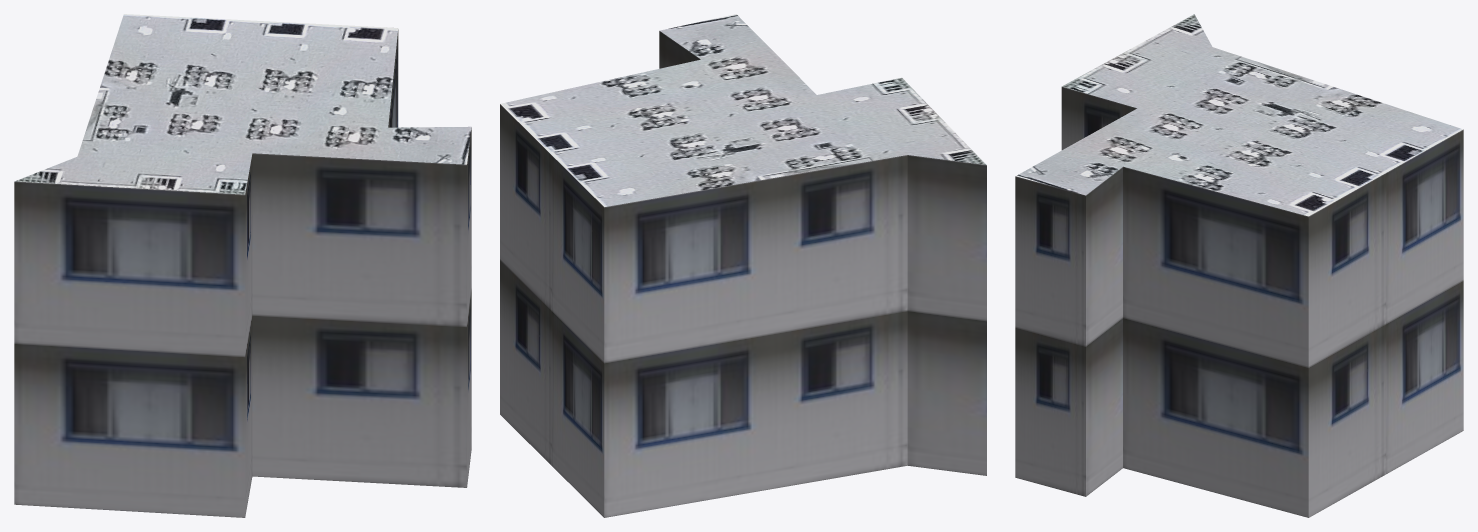
The model's file is ResTex__3737.fbx.
3 views of the same model, side by side, from view 1: azimuth 30°, elevation 25°; view 2: azimuth 150°, elevation 25°; view 3: azimuth 270°, elevation 25° (orthographic). The views are drawn at different scales.
Parts seen in each view (by area): view 1: CityEngineMaterial_9_m, CityEngineMaterial_4_m; view 2: CityEngineMaterial_9_m, CityEngineMaterial_4_m; view 3: CityEngineMaterial_9_m, CityEngineMaterial_4_m.
Part boxes in pixels (x1,y1,x2,y2): CityEngineMaterial_9_m: (14, 29, 471, 517); CityEngineMaterial_4_m: (14, 14, 471, 194); CityEngineMaterial_9_m: (500, 31, 986, 517); CityEngineMaterial_4_m: (500, 14, 986, 206); CityEngineMaterial_9_m: (1015, 87, 1463, 517); CityEngineMaterial_4_m: (1016, 14, 1462, 216).
Size of the model in its own units: 8.65 by 6 by 8.08.
2 materials, 2 textured.
